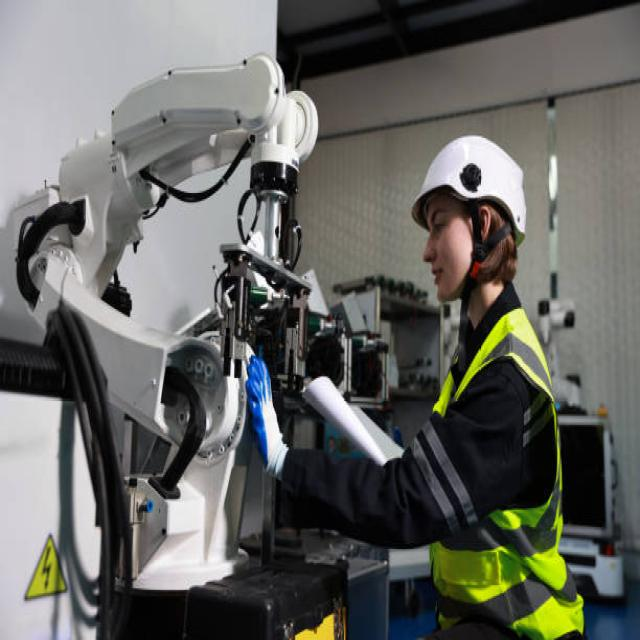Robotic-arm: (1, 50, 324, 592)
